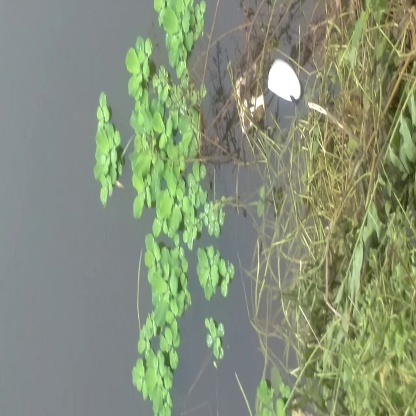grass: (123, 241, 209, 416)
